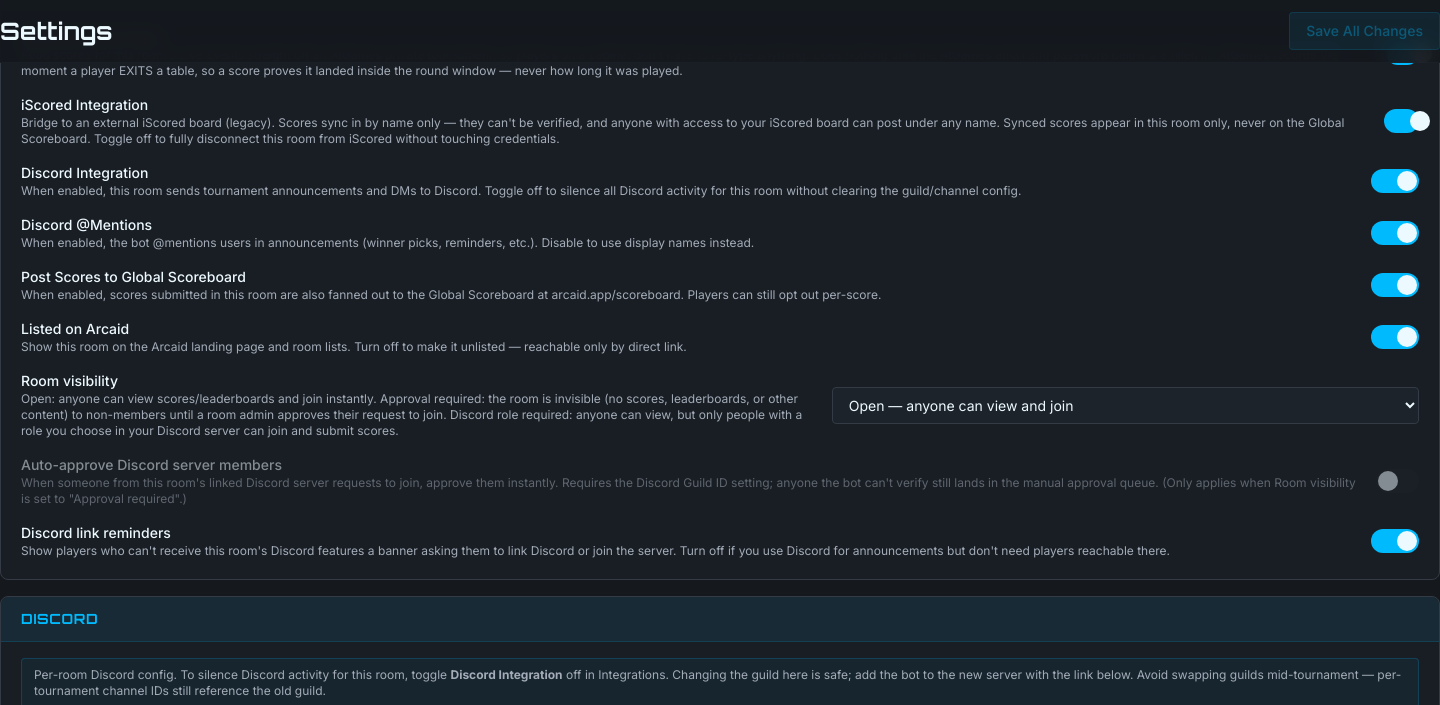
Scenario: Settings page — ROOM_LISTED, JOIN_POLICY, AUTO_APPROVE_GUILD_MEMBERS, iScored posture › AUTO_APPROVE_GUILD_MEMBERS › live-updates enablement off the unsaved JOIN_POLICY select value, not the saved baseline
(page scrolled)
Expected: the heading "Settings" is shown, 0,15 -> 112,47
Select "Approval required — invisible to non-members until approved" in the dropdown at (1125, 405), box 832,386 -> 1419,424
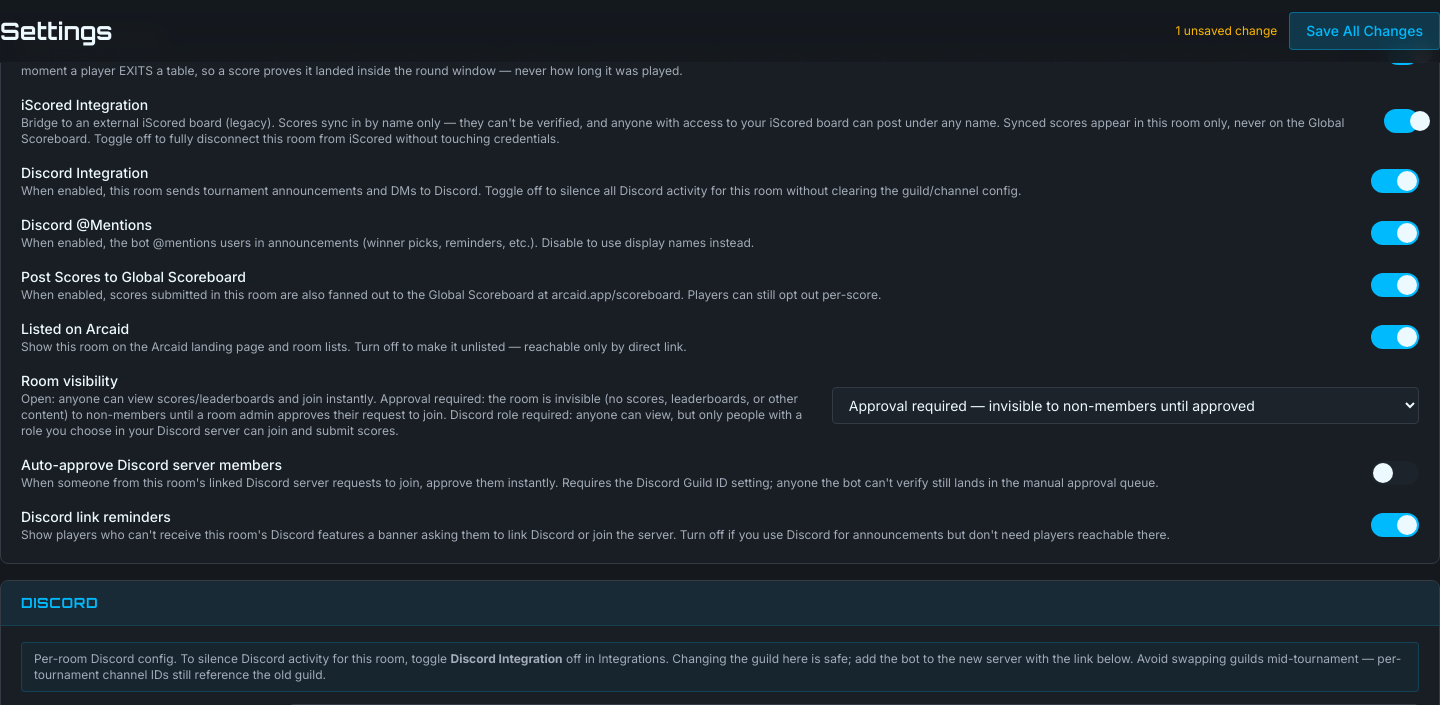
Now the button without text in the row of "Auto-approve Discord server members" is enabled, box 1371,461 -> 1419,485
